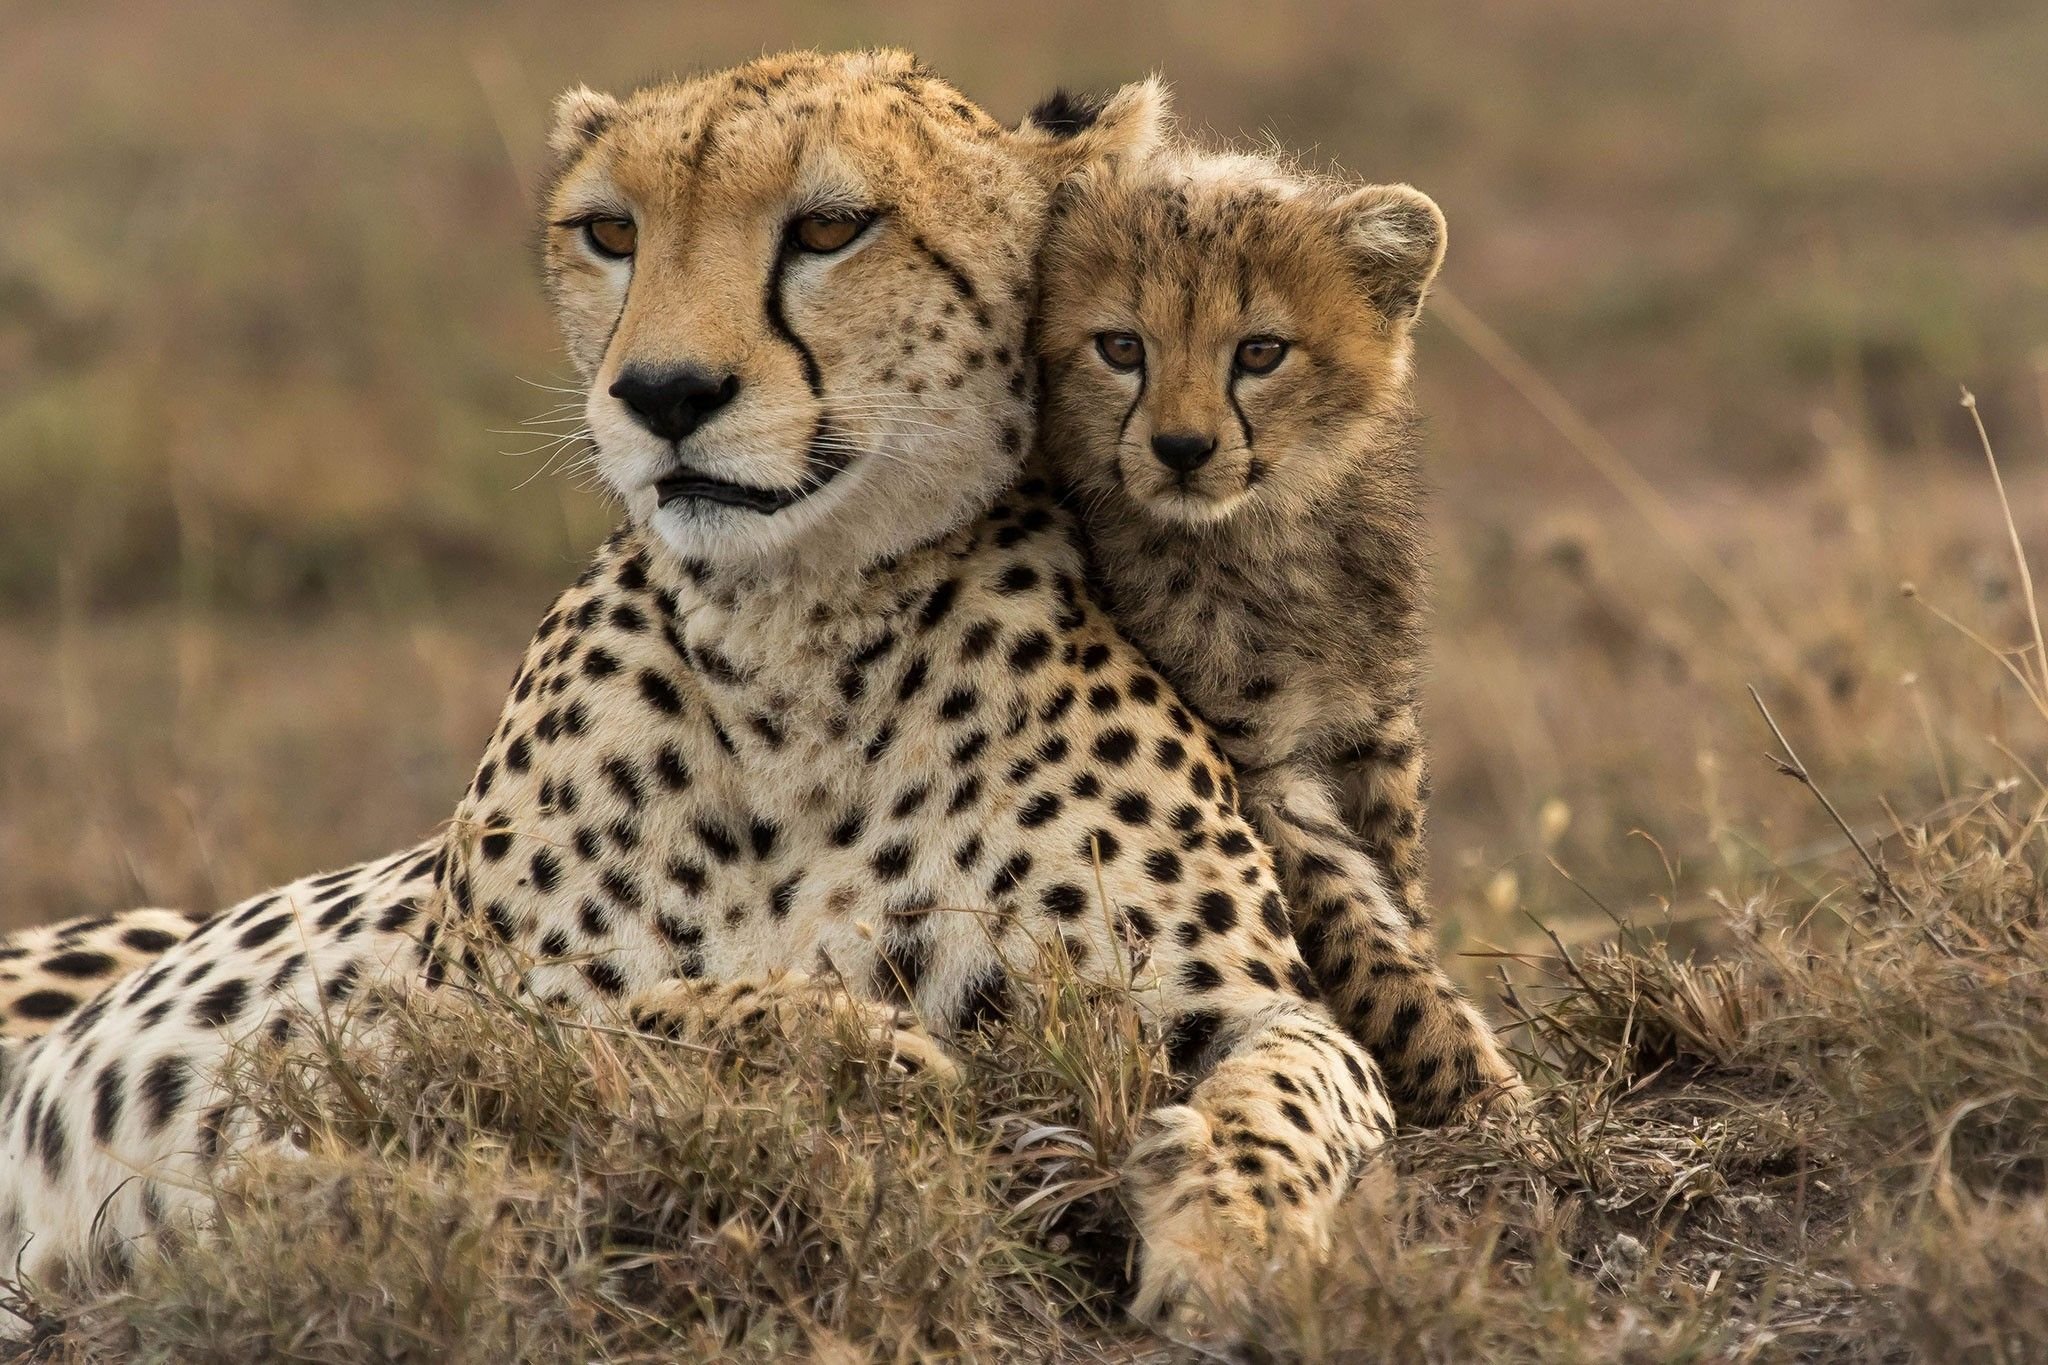cheetah: (493, 43, 1060, 658)
